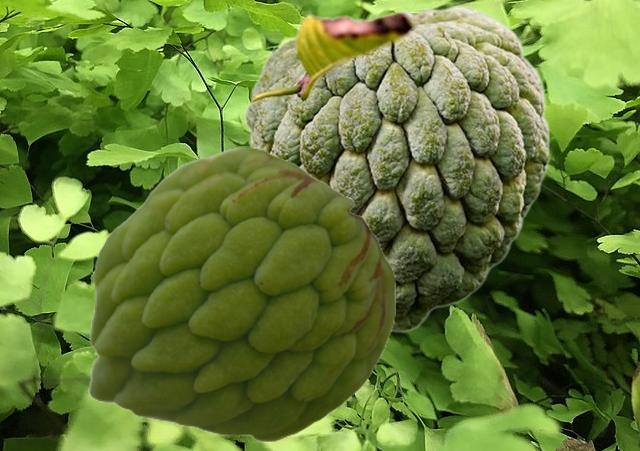atis: (243, 4, 549, 331), (88, 146, 394, 441)
